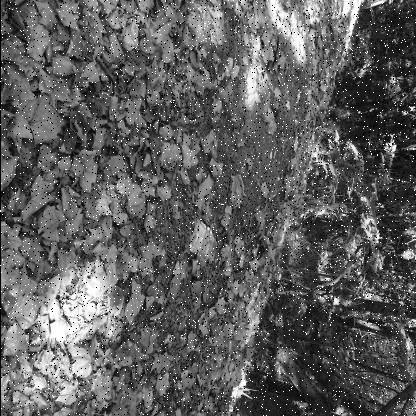cardboard: (188, 219, 214, 260)
